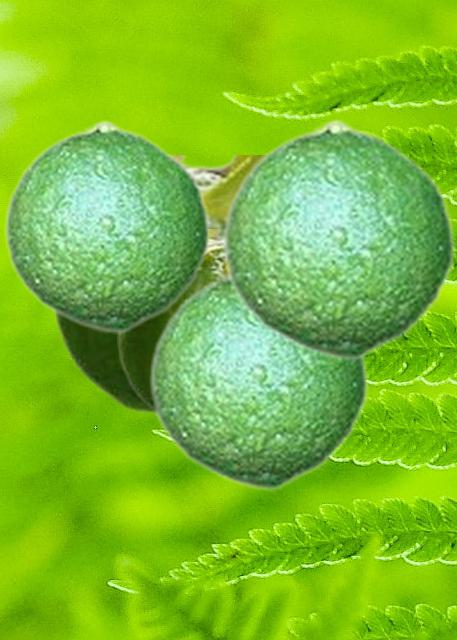dalandan: (220, 118, 455, 360), (52, 155, 260, 414), (147, 271, 368, 490), (2, 119, 210, 333), (117, 229, 225, 414)
